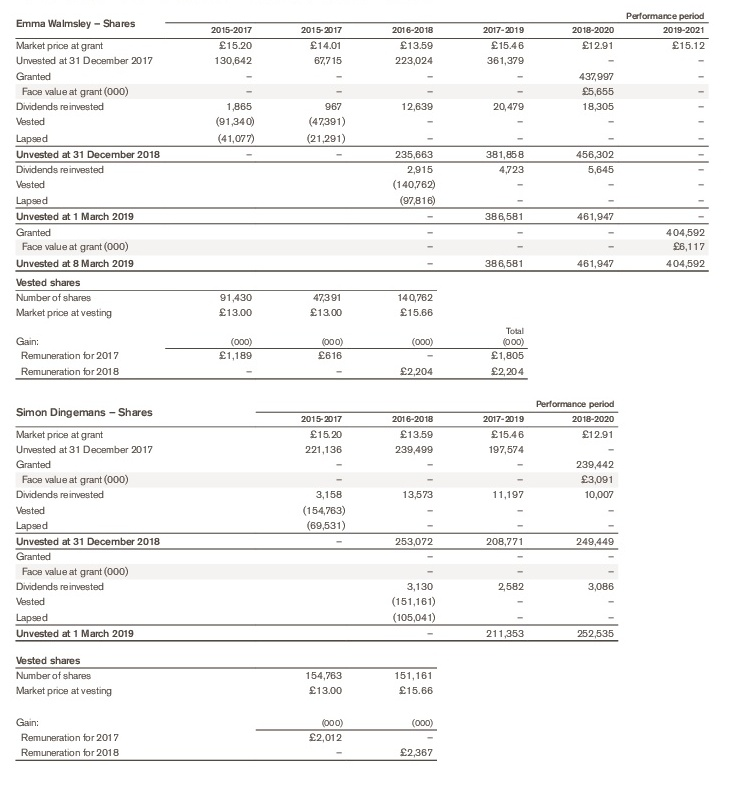table: (0, 0, 731, 789)
